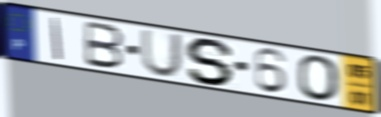6: (253, 46, 289, 95)
B: (83, 19, 126, 70)
I: (50, 15, 64, 62)
O: (296, 54, 342, 103)
S: (184, 37, 238, 87)
U: (140, 28, 184, 79)
